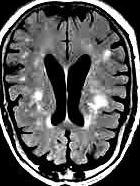Normal_Brain: (1, 1, 140, 186)
